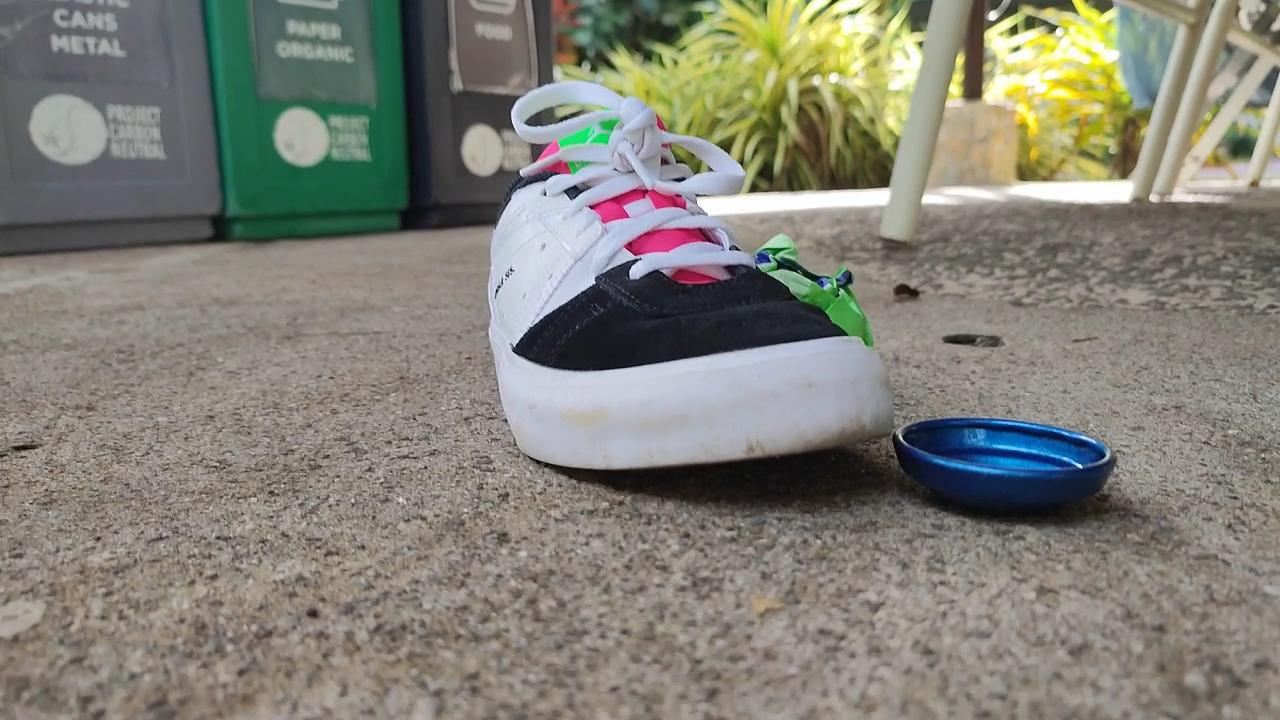Paper: (751, 225, 883, 357)
